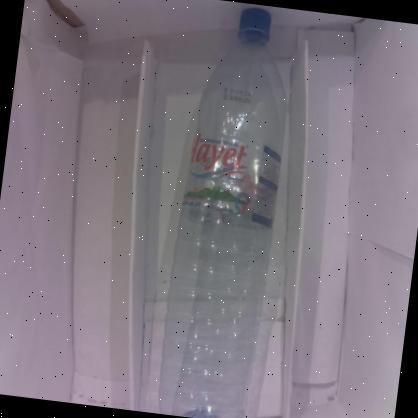bottle: (146, 0, 301, 418)
cap: (235, 7, 273, 43)
label: (176, 129, 284, 229)
